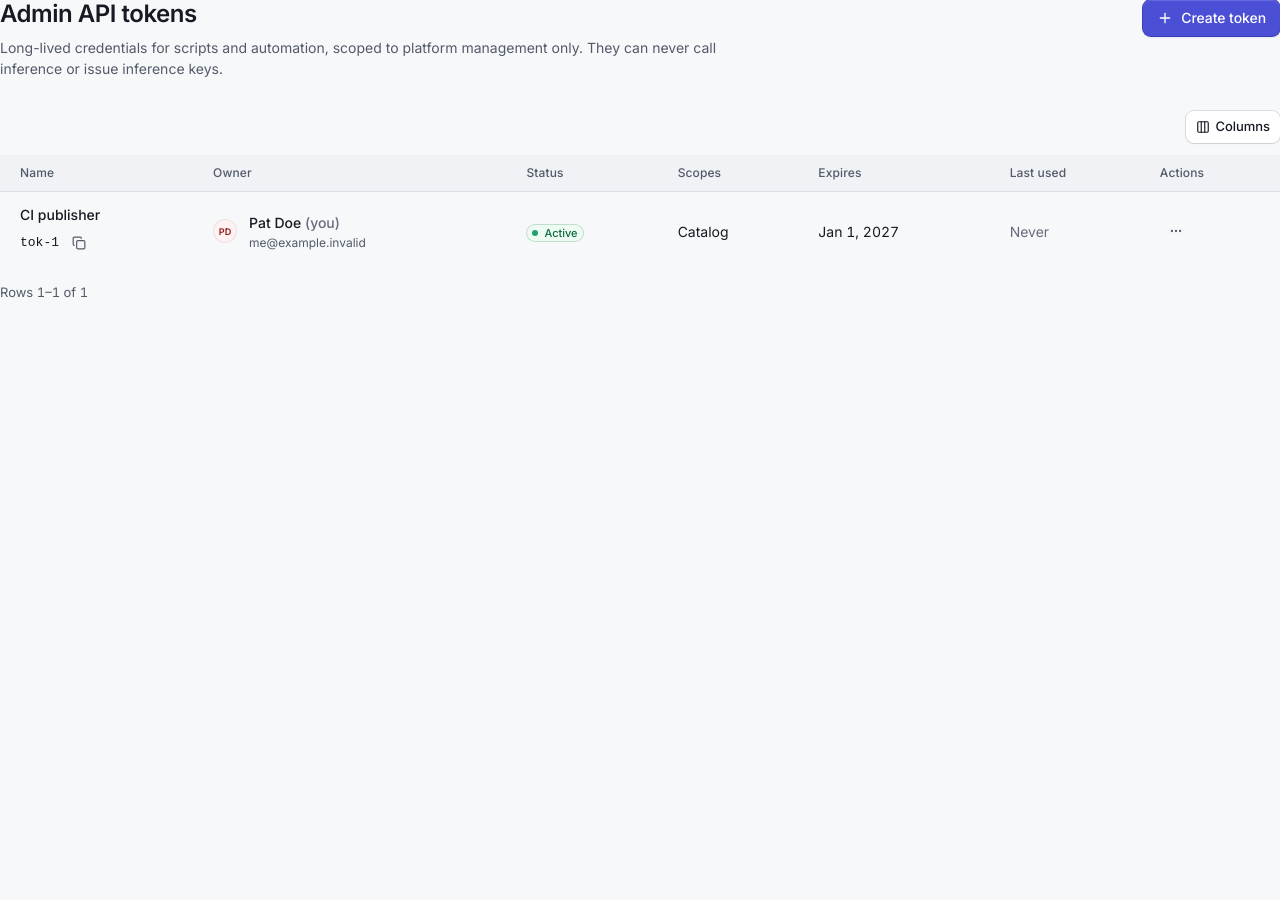
Admin API tokens list (#37 PR3) › offers Revoke for an active token and sends an idempotent DELETE that refreshes the list
The image size is (1280, 900).
Expected: the text "CI publisher" is shown, [20,206,100,223]
Click the button named "Actions for CI publisher": (1176, 231) [1160,215,1192,247]
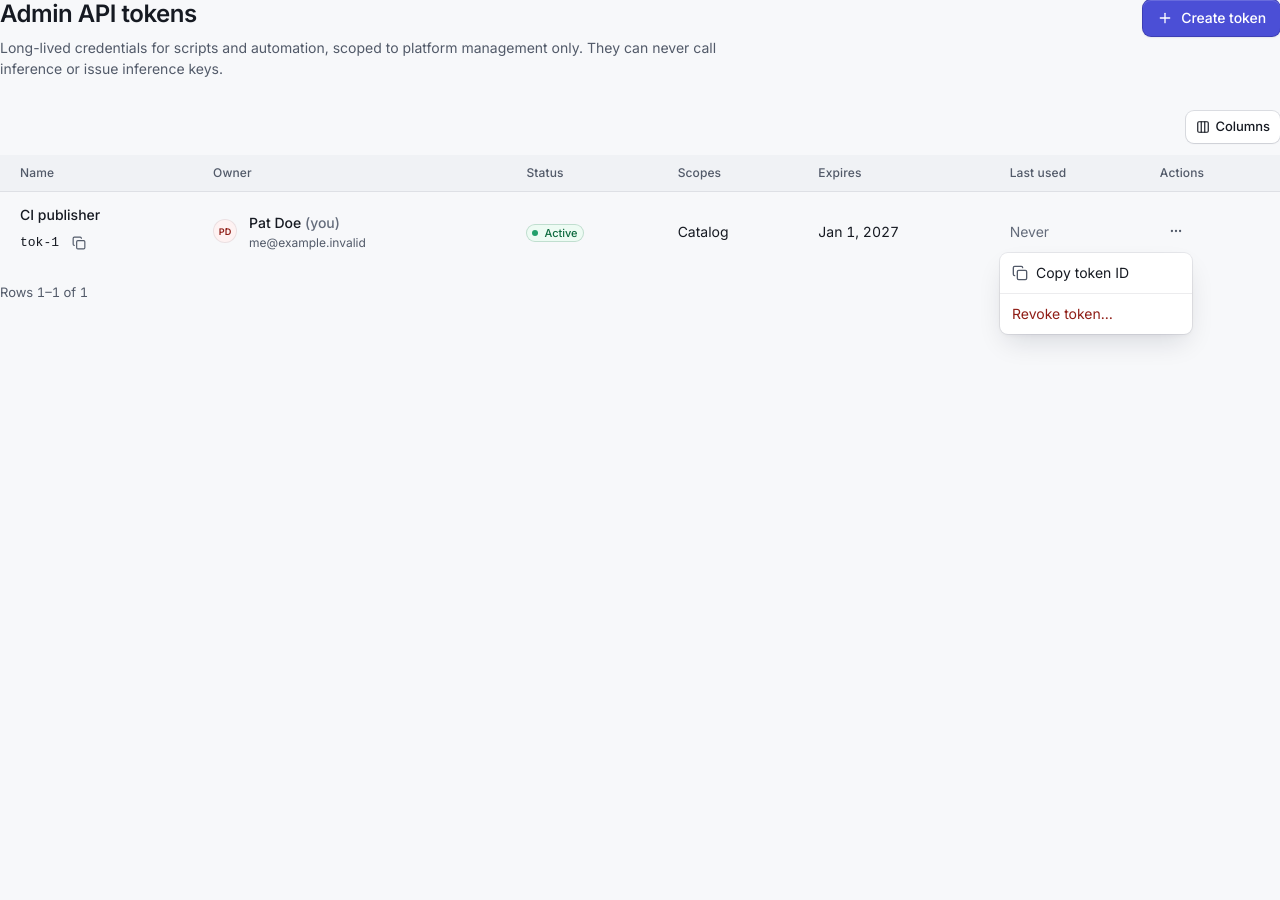
Click the menu item "Revoke token…": (1062, 314) [1012,305,1113,322]
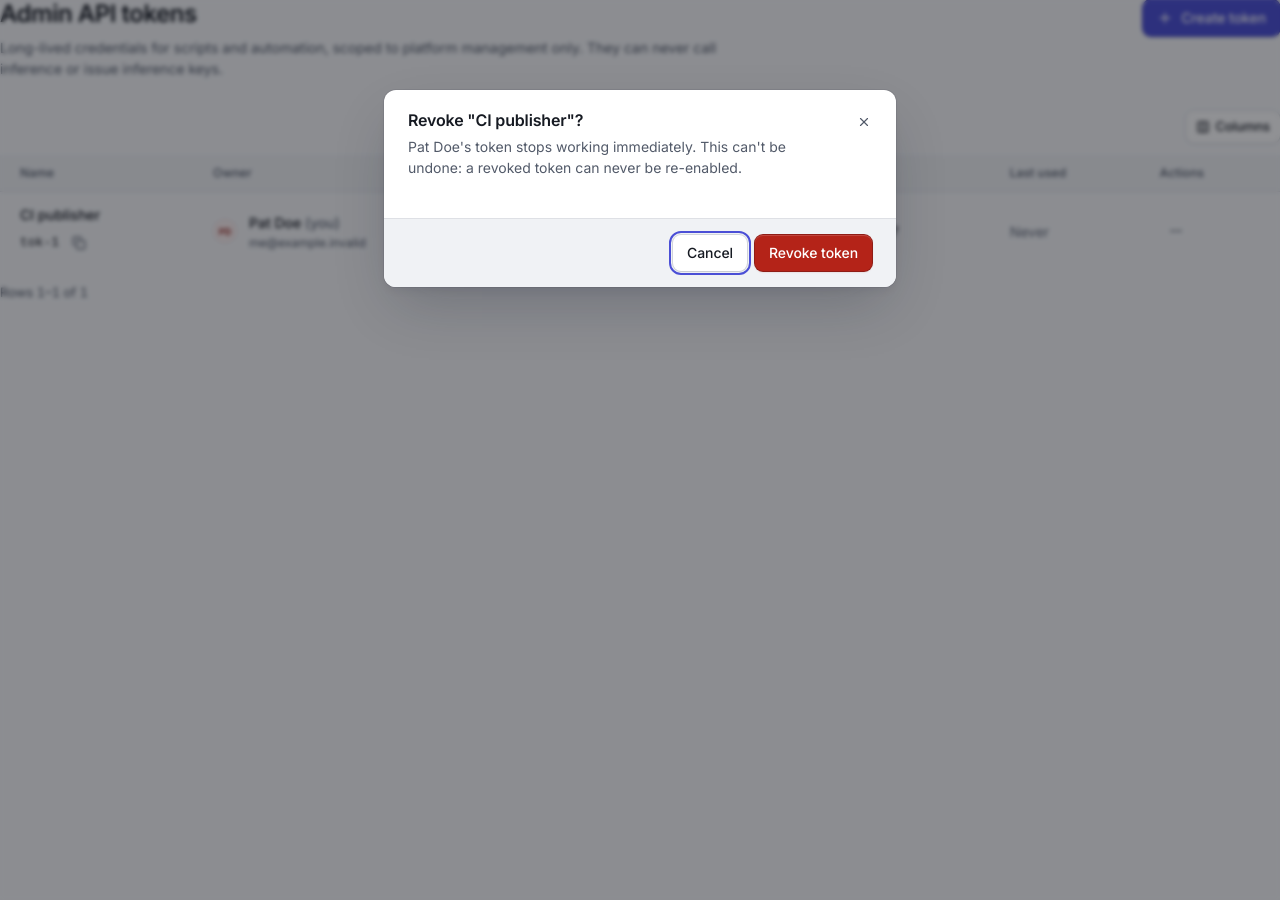
Click the button "Revoke token": (814, 253) [755,235,872,271]
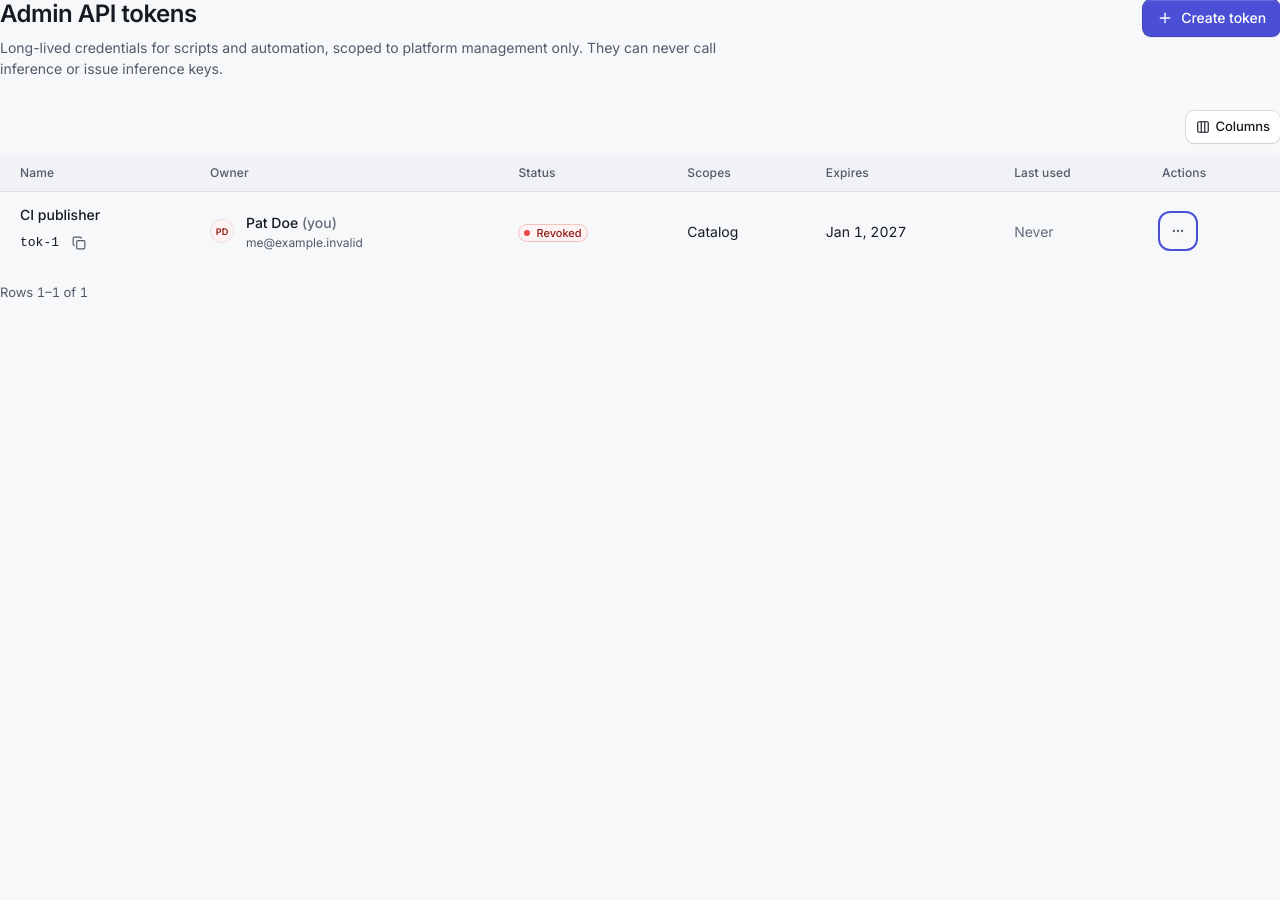
Now the dialog is gone
Now the text "Revoked" is shown, box [518,224,588,242]
